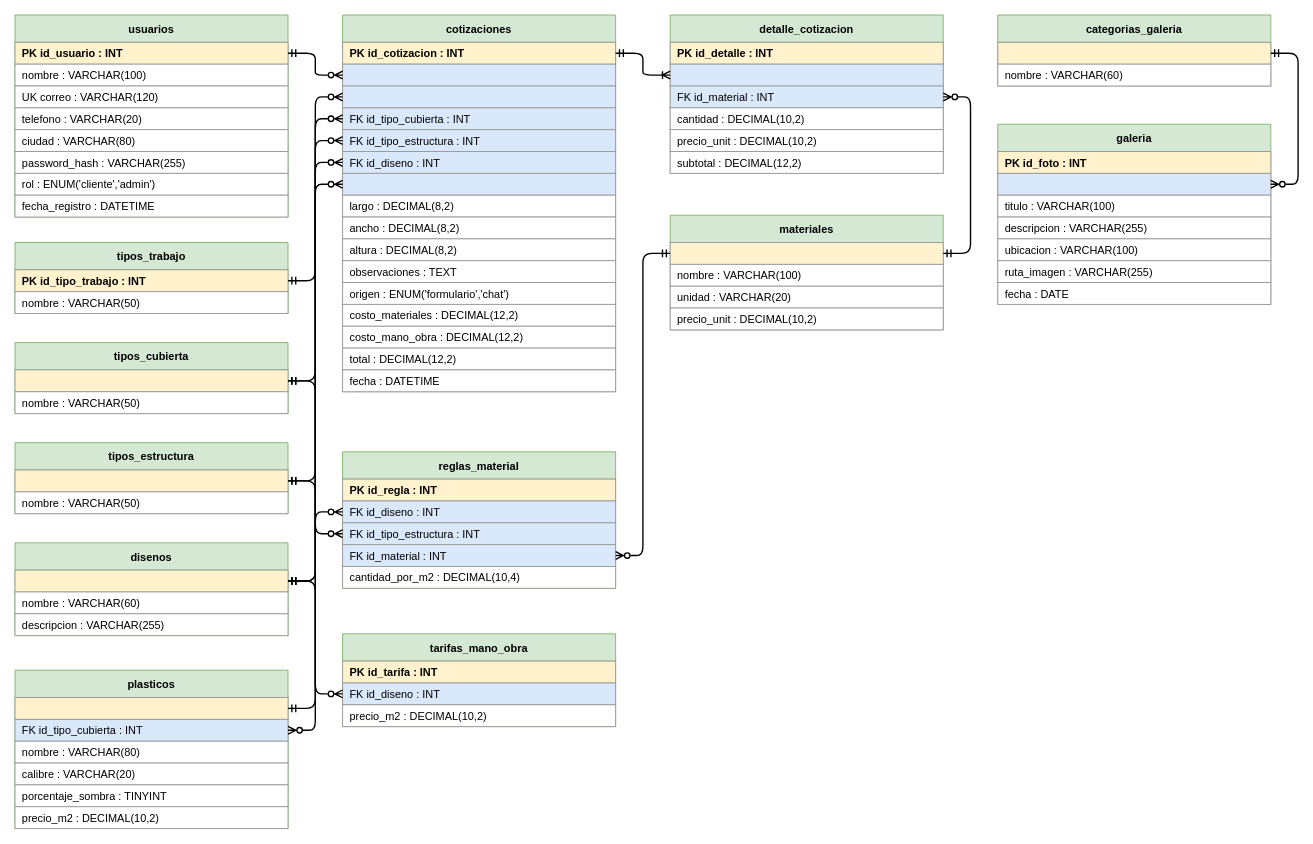
Some shapes in this 1313 by 844 pixel diagram are drawn without their labels. The centre of each missing label's shape, as x and y in pixels:
FK id_categoria : INT: point (1134, 183)
FK id_cotizacion : INT: point (806, 74)
FK id_plastico : INT: point (479, 183)
FK id_tipo_trabajo : INT: point (479, 96)
FK id_usuario : INT: point (479, 74)
PK id_categoria : INT: point (1134, 52)
PK id_diseno : INT: point (151, 580)
PK id_material : INT: point (806, 253)
PK id_plastico : INT: point (151, 708)
PK id_tipo_cubierta : INT: point (151, 380)
PK id_tipo_estructura : INT: point (151, 480)
